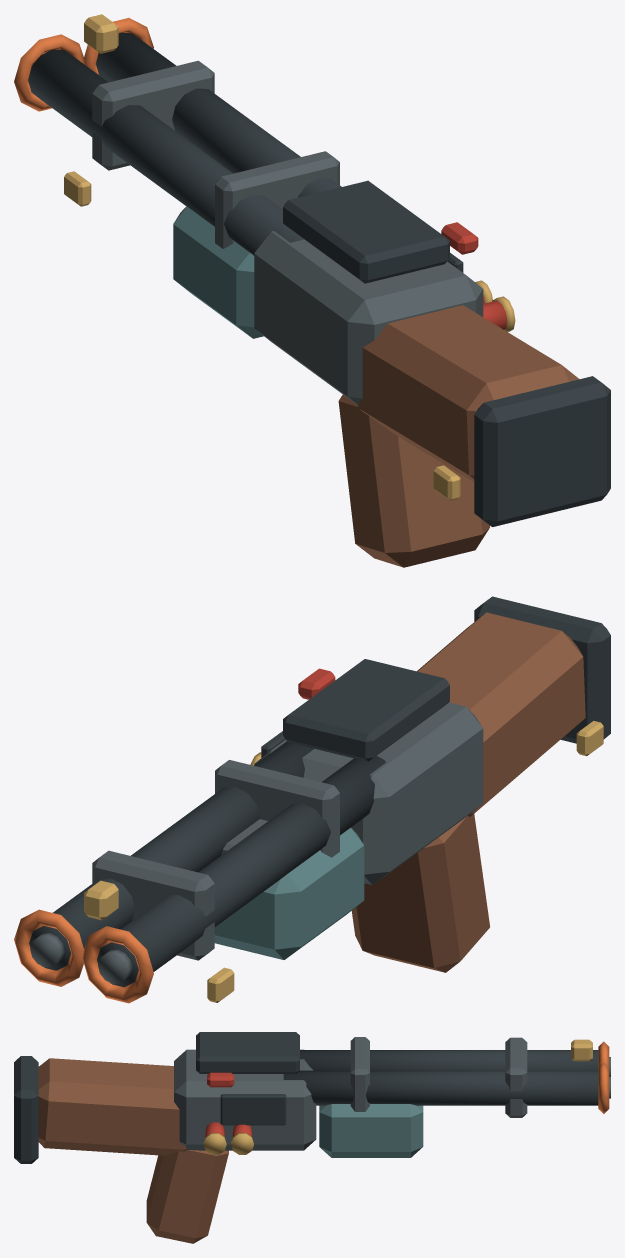
Rendered from Shotgun.glb.
3 views of the same model, one above another, from view 1: azimuth 30°, elevation 25°; view 2: azimuth 150°, elevation 25°; view 3: azimuth 270°, elevation 25° (orthographic). The views are drawn at different scales.
Parts seen in each view (by area): view 1: Stock, Receiver, Butt pad, Pistol grip, Barrel, Receiver top rail, Barrel.001, Pump housing, Barrel band front, Barrel band rear, Muzzle ring, Front bead (+4 smaller); view 2: Stock, Receiver, Barrel, Pistol grip, Receiver top rail, Pump housing, Barrel.001, Butt pad, Barrel band front, Barrel band rear, Muzzle ring, Muzzle ring.001 (+6 smaller); view 3: Stock, Barrel.001, Receiver, Pistol grip, Pump housing, Barrel, Receiver top rail, Butt pad, Ejection port, Barrel band front, Barrel band rear, Muzzle ring.001 (+4 smaller).
Part boxes in pixels (x1,y1,x2,y2): Stock: (358, 305, 579, 481); Receiver: (254, 231, 483, 405); Butt pad: (474, 376, 610, 526); Pistol grip: (338, 394, 489, 567); Barrel: (28, 49, 303, 255); Receiver top rail: (283, 180, 449, 283); Barrel.001: (96, 33, 341, 197); Pump housing: (173, 206, 263, 338); Barrel band front: (92, 60, 214, 170); Barrel band rear: (215, 151, 339, 248); Muzzle ring: (14, 34, 84, 111); Front bead: (84, 14, 118, 53); Stock: (417, 612, 585, 816); Receiver: (254, 702, 483, 885); Barrel: (97, 756, 385, 987); Pistol grip: (351, 814, 489, 972); Receiver top rail: (283, 659, 449, 761); Pump housing: (214, 828, 364, 959); Barrel.001: (29, 741, 314, 970); Butt pad: (474, 596, 610, 743); Barrel band front: (92, 850, 214, 960); Barrel band rear: (215, 760, 339, 857); Muzzle ring: (82, 926, 153, 1003); Muzzle ring.001: (14, 909, 83, 986); Stock: (38, 1058, 186, 1155); Barrel.001: (283, 1070, 598, 1105); Receiver: (174, 1049, 316, 1150); Pistol grip: (146, 1150, 228, 1243); Pump housing: (319, 1104, 423, 1157); Barrel: (300, 1050, 598, 1070); Receiver top rail: (196, 1032, 299, 1073); Butt pad: (14, 1056, 38, 1163); Ejection port: (220, 1094, 286, 1125); Barrel band front: (505, 1037, 527, 1117); Barrel band rear: (350, 1037, 369, 1111); Muzzle ring.001: (598, 1062, 609, 1113).
Bounding box in the file's own units: 0.5095 × 0.7702 × 2.18.
